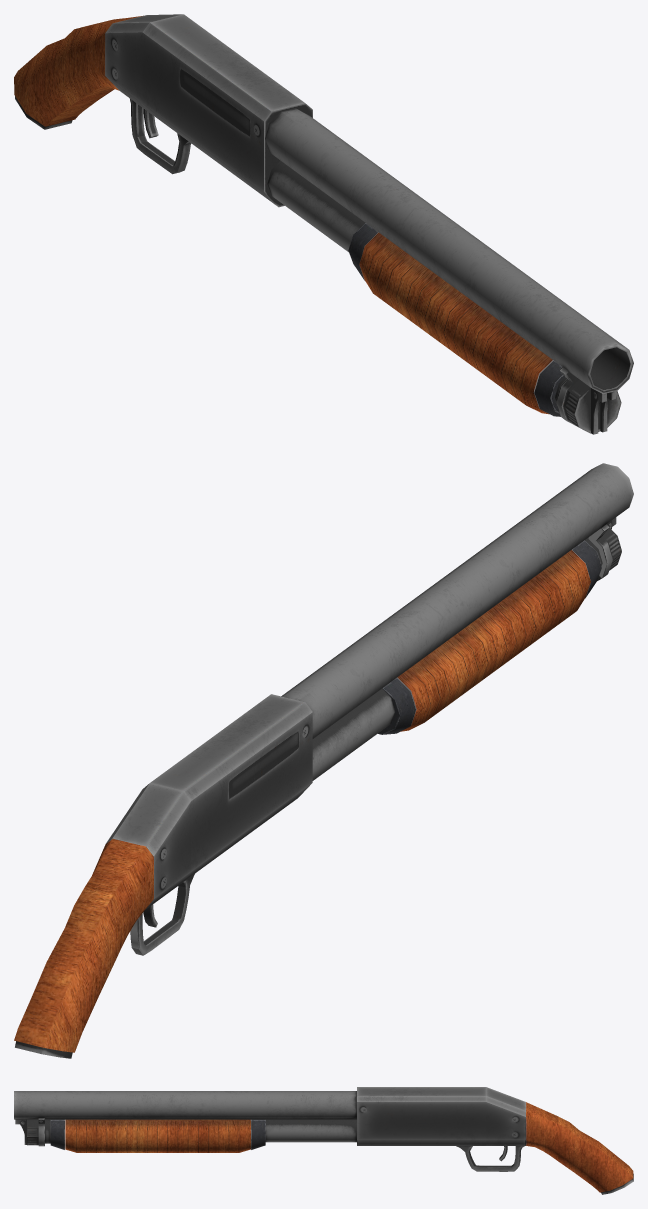
File: sawedoff.glb
The picture shows the model from 3 angles, top to bottom: view 1: azimuth 30°, elevation 25°; view 2: azimuth 150°, elevation 25°; view 3: azimuth 270°, elevation 25°; orthographic projection. The views are drawn at different scales.
Visible parts, largest first — view 1: SM_BarrelMain_low, SM_Body_low, SM_PumpMid_low, SM_Handle_low, SM_BarrelDown_low, SM_Trigger_low, SM_FrontDetail02_low, SM_PumpFar_low, SM_PumpClose_low; view 2: SM_BarrelMain_low, SM_Body_low, SM_Handle_low, SM_PumpMid_low, SM_BarrelDown_low, SM_Trigger_low, SM_PumpClose_low; view 3: SM_BarrelMain_low, SM_Body_low, SM_PumpMid_low, SM_Handle_low, SM_BarrelDown_low, SM_Trigger_low, SM_PumpClose_low, SM_PumpFar_low, SM_FrontDetail02_low, SM_FrontDetail01_low.
Part boxes in pixels (bbox=[...]): SM_BarrelMain_low: bbox=[265, 108, 633, 393]; SM_Body_low: bbox=[105, 14, 312, 207]; SM_PumpMid_low: bbox=[359, 232, 552, 414]; SM_Handle_low: bbox=[14, 15, 143, 129]; SM_BarrelDown_low: bbox=[267, 160, 365, 252]; SM_Trigger_low: bbox=[129, 98, 191, 174]; SM_FrontDetail02_low: bbox=[563, 379, 621, 433]; SM_PumpFar_low: bbox=[534, 360, 564, 416]; SM_PumpClose_low: bbox=[348, 223, 378, 280]; SM_BarrelMain_low: bbox=[281, 463, 633, 738]; SM_Body_low: bbox=[106, 694, 312, 909]; SM_Handle_low: bbox=[14, 839, 153, 1058]; SM_PumpMid_low: bbox=[397, 550, 590, 731]; SM_BarrelDown_low: bbox=[312, 689, 394, 780]; SM_Trigger_low: bbox=[130, 874, 194, 955]; SM_PumpClose_low: bbox=[378, 678, 415, 734]; SM_BarrelMain_low: bbox=[14, 1091, 356, 1119]; SM_Body_low: bbox=[357, 1087, 525, 1145]; SM_PumpMid_low: bbox=[65, 1119, 250, 1152]; SM_Handle_low: bbox=[526, 1102, 633, 1194]; SM_BarrelDown_low: bbox=[265, 1119, 356, 1142]; SM_Trigger_low: bbox=[456, 1146, 524, 1171]; SM_PumpClose_low: bbox=[251, 1119, 265, 1149]; SM_PumpFar_low: bbox=[50, 1119, 64, 1149]; SM_FrontDetail02_low: bbox=[27, 1119, 38, 1145]; SM_FrontDetail01_low: bbox=[38, 1118, 44, 1146].
Bounding box in the file's own units: 12.47 × 35.34 × 199.
1 material, 1 textured.
